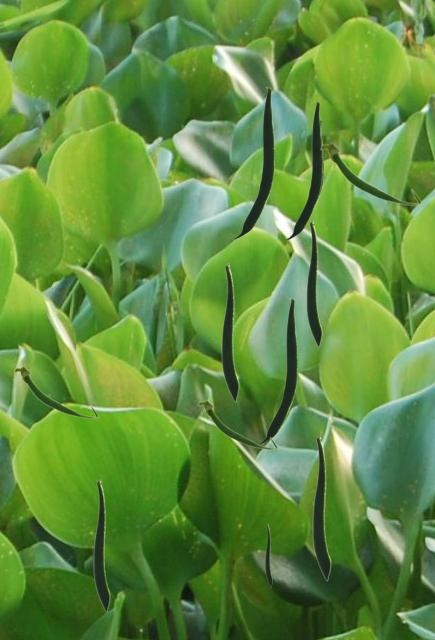french_bean: (319, 141, 421, 205), (232, 87, 273, 238), (259, 298, 296, 443), (284, 101, 321, 239), (13, 365, 98, 418), (197, 399, 277, 449), (312, 435, 330, 580), (221, 263, 238, 401), (93, 479, 109, 611), (306, 220, 321, 346), (317, 119, 322, 203), (265, 524, 271, 586)
